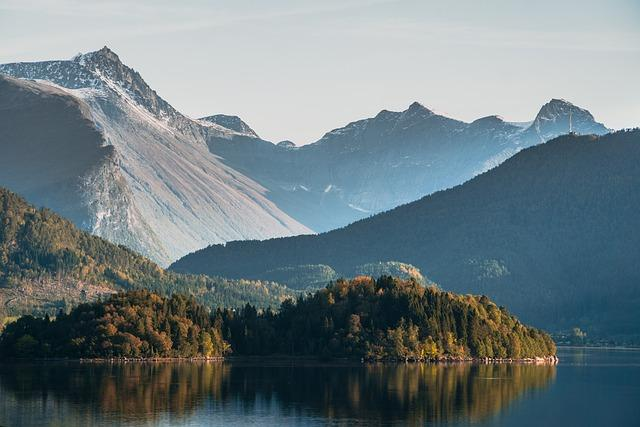Non_Gorille: (69, 52, 548, 411)
